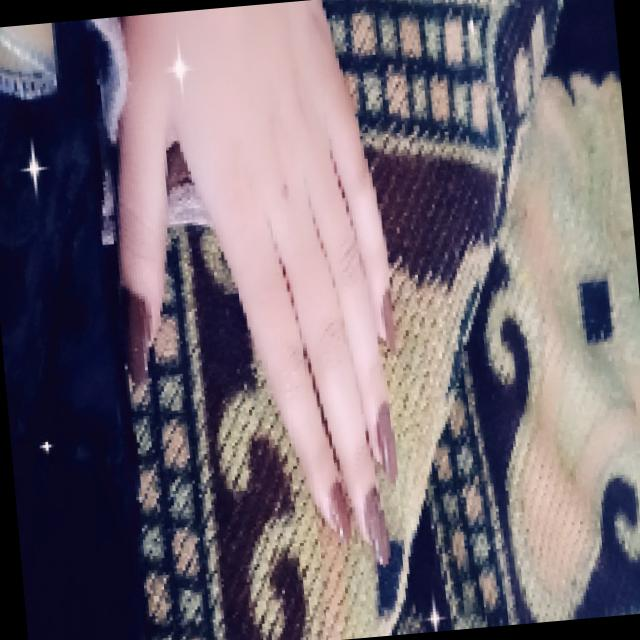Nail: (121, 288, 150, 383), (363, 487, 389, 564), (375, 401, 396, 482), (329, 480, 350, 540), (381, 292, 395, 352)
